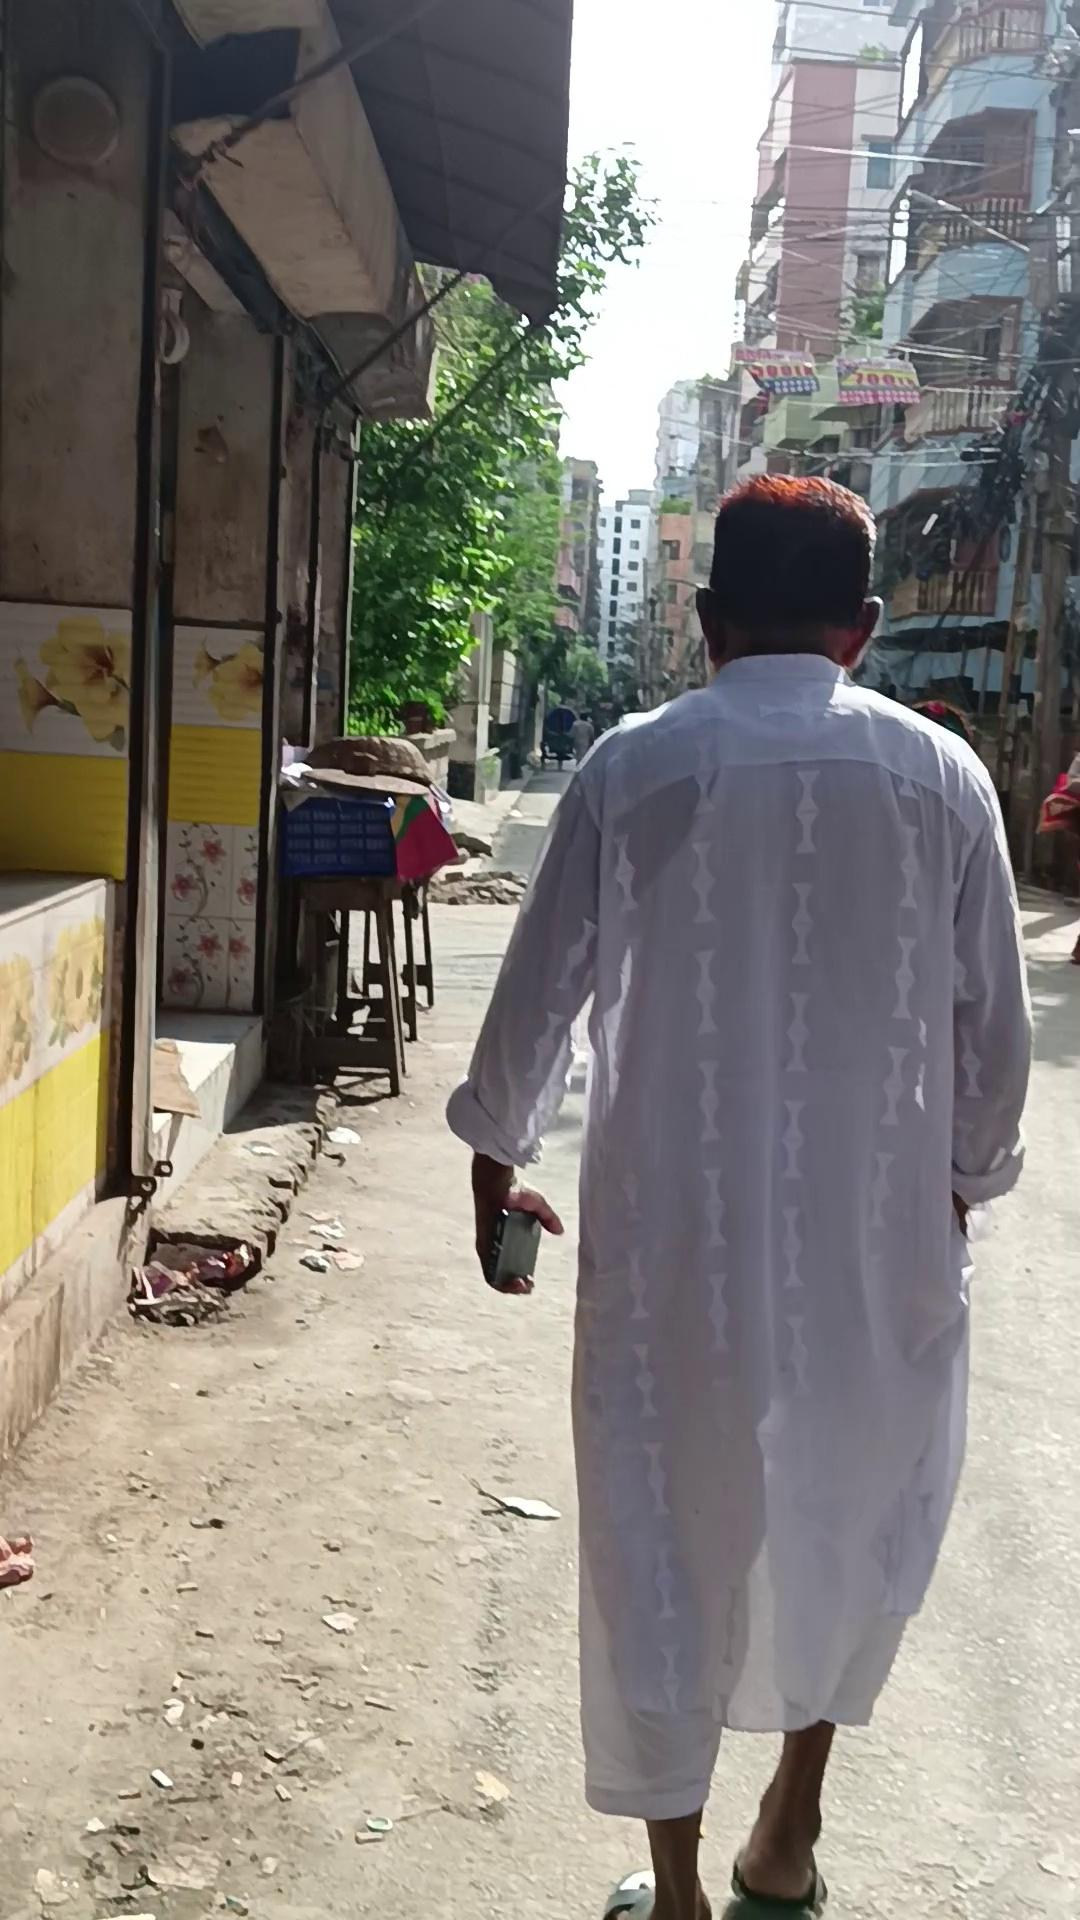Crosswalk: (1, 1078, 327, 1472), (131, 1098, 325, 1320), (146, 1003, 266, 1224)
Motorcycle: (271, 735, 458, 1098)
Muddy road: (444, 470, 1033, 1918)
